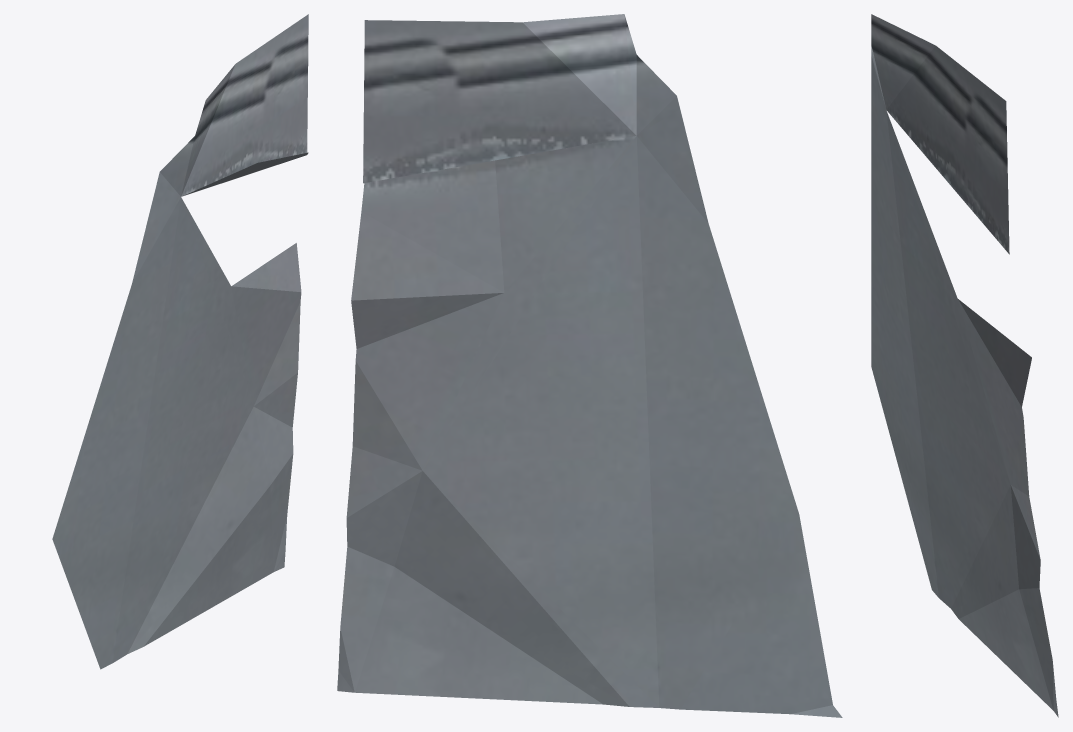
3 renders of one model, left to right at view 1: azimuth 30°, elevation 25°; view 2: azimuth 150°, elevation 25°; view 3: azimuth 270°, elevation 25°, orthographic. The views are drawn at different scales.
Bounding box in the file's own units: 0.5478 × 0.8373 × 0.2305.
2 materials, 2 textured.
